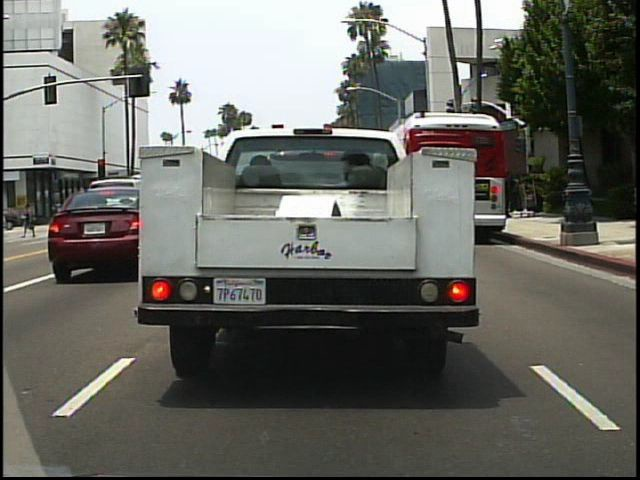person: (19, 197, 41, 242), (502, 168, 521, 220), (20, 198, 39, 233)
